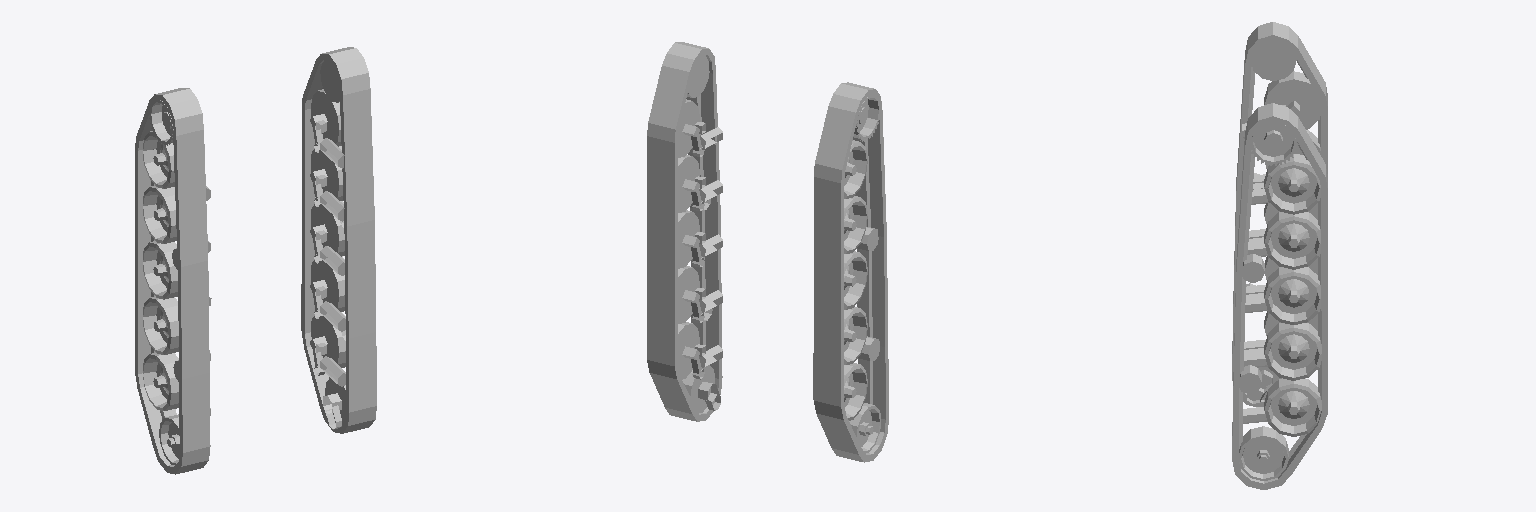
Rendered from Chassis49.obj.
3 views of the same model, side by side, from view 1: azimuth 30°, elevation 25°; view 2: azimuth 150°, elevation 25°; view 3: azimuth 270°, elevation 25° (orthographic).
Visible parts, largest first — view 1: 3D_Object_2, 3D_Object_1, 3D_Object_3, 3D_Object_4; view 2: 3D_Object_2, 3D_Object_1, 3D_Object_3, 3D_Object_4; view 3: 3D_Object_3, 3D_Object_1, 3D_Object_4, 3D_Object_2.
Boxes of the visible parts, box(x1,y1,x2,y2) form: 3D_Object_2: box(135, 88, 210, 474); 3D_Object_1: box(301, 47, 376, 433); 3D_Object_3: box(310, 61, 345, 429); 3D_Object_4: box(143, 97, 211, 464); 3D_Object_2: box(813, 82, 888, 462); 3D_Object_1: box(647, 42, 722, 421); 3D_Object_3: box(678, 56, 722, 412); 3D_Object_4: box(844, 93, 880, 453); 3D_Object_3: box(1239, 120, 1321, 480); 3D_Object_1: box(1232, 103, 1327, 489); 3D_Object_4: box(1242, 42, 1320, 403); 3D_Object_2: box(1232, 22, 1327, 406).
Bounding box in the file's own units: 2.6 × 4.76 × 1.11.